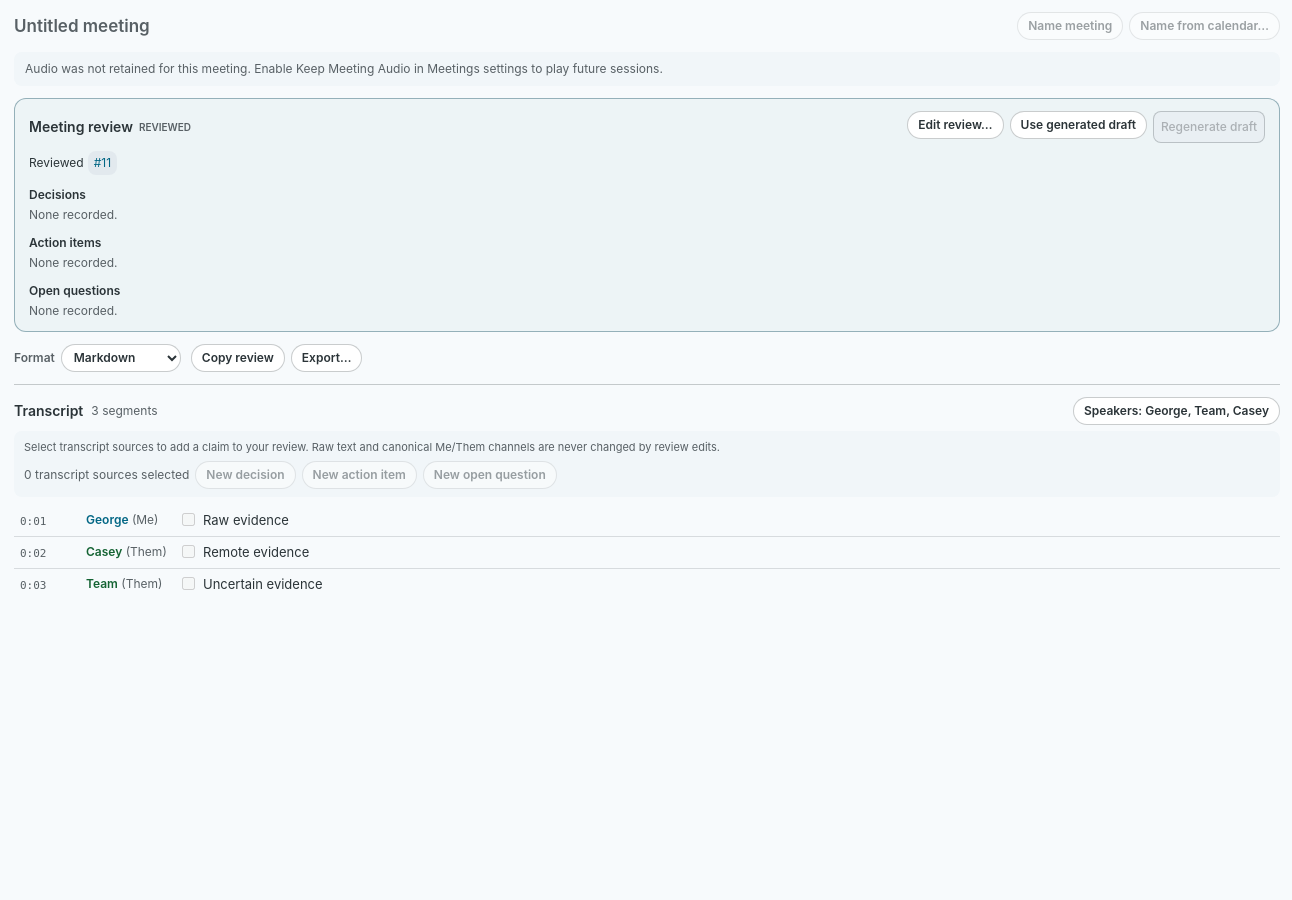
Test: MeetingReviewWorkspace › requires capture to stop before caption export
Select "SubRip (.srt)" in the dropdown named "Meeting review export format" at (121, 358), box [61,344,181,372]
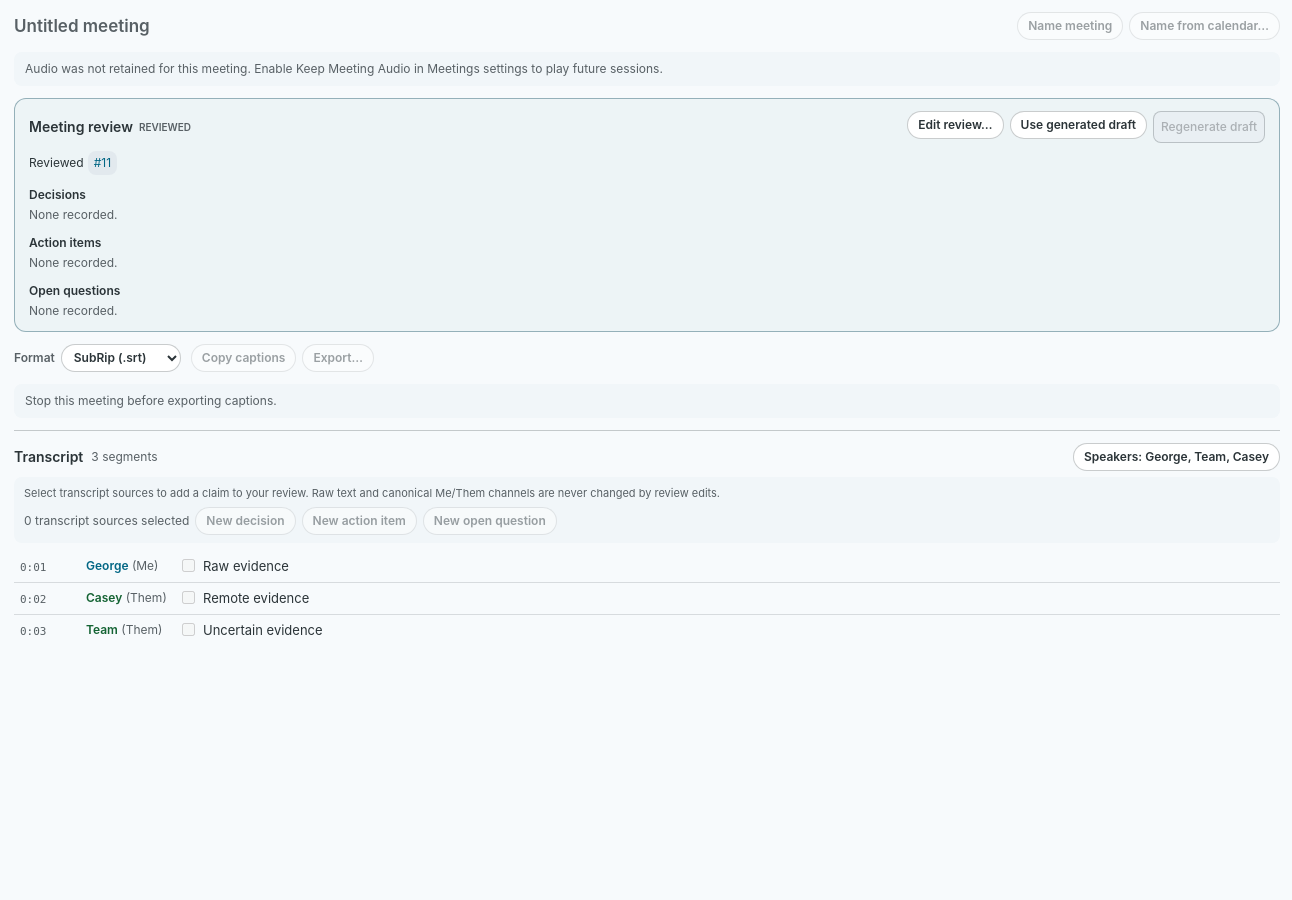
Result: the text "Stop this meeting before exporting captions." is shown at [14,384,1280,418]
